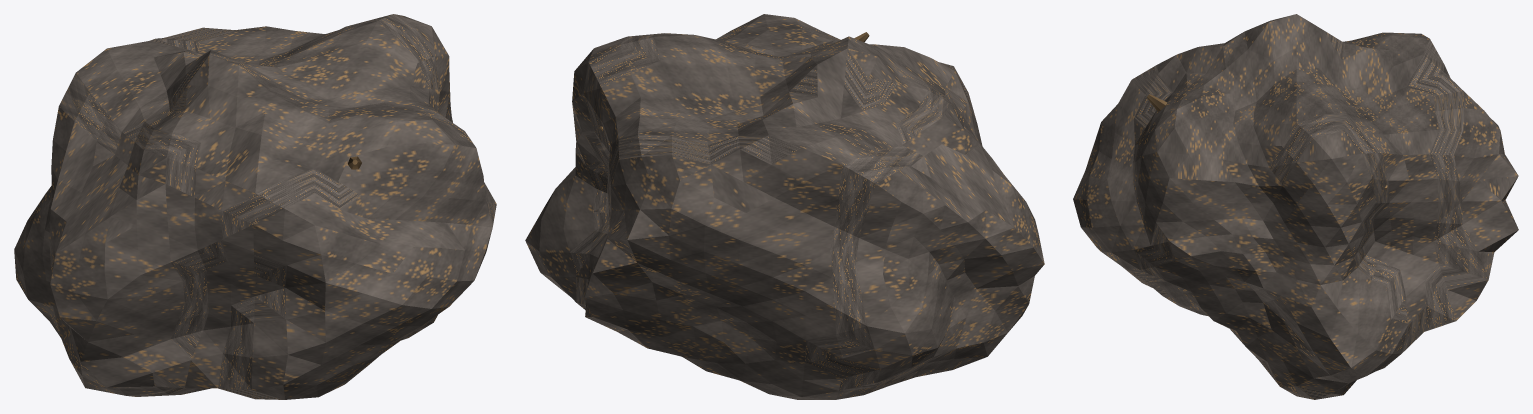
Rendered from ast_silicate_iron.glb.
The picture shows the model from 3 angles, left to right: view 1: azimuth 30°, elevation 25°; view 2: azimuth 150°, elevation 25°; view 3: azimuth 270°, elevation 25°; orthographic projection. The views are drawn at different scales.
Parts seen in each view (by area): view 1: ast_silicate_iron; view 2: ast_silicate_iron; view 3: ast_silicate_iron.
Part boxes in pixels (box(x1,y1,x2,y2)): ast_silicate_iron: box(14, 14, 496, 399); ast_silicate_iron: box(525, 14, 1044, 399); ast_silicate_iron: box(1073, 14, 1518, 399).
Bounding box in the file's own units: 6.05 × 4.06 × 5.47.
Materials: 1 (1 with a texture image).
